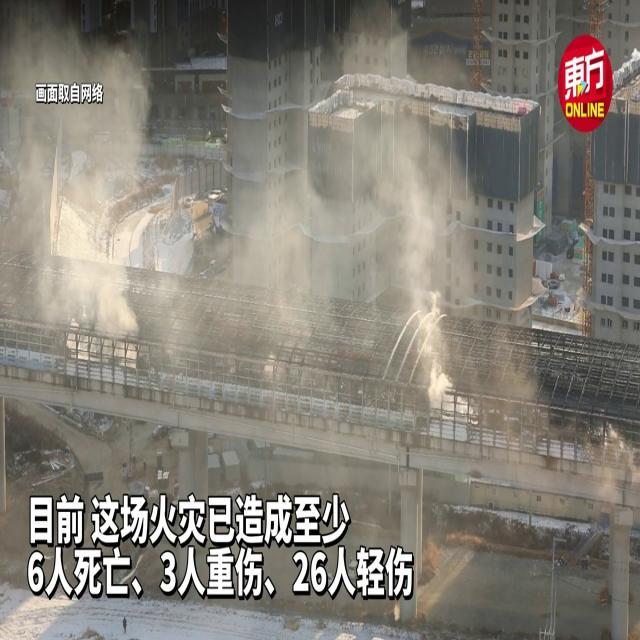Smoke: (210, 37, 474, 392), (0, 1, 164, 344)
